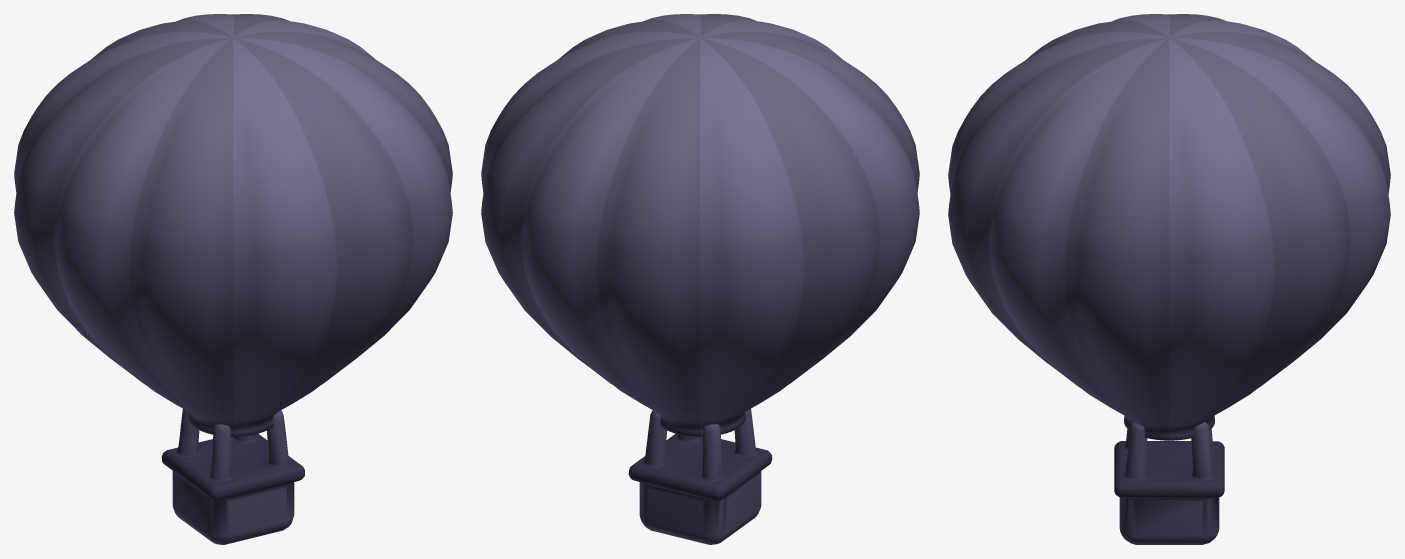
The model's file is BalloonStorm.fbx.
The picture shows the model from 3 angles, left to right: view 1: azimuth 30°, elevation 25°; view 2: azimuth 150°, elevation 25°; view 3: azimuth 270°, elevation 25°; orthographic projection.
Parts seen in each view (by area): view 1: Body; view 2: Body; view 3: Body.
Boxes of the visible parts, left/top/right/bottom form: Body: left=14, top=14, right=452, bottom=544; Body: left=481, top=14, right=919, bottom=544; Body: left=948, top=14, right=1390, bottom=544.
Size of the model in its own units: 0.8156 by 1 by 0.8156.
